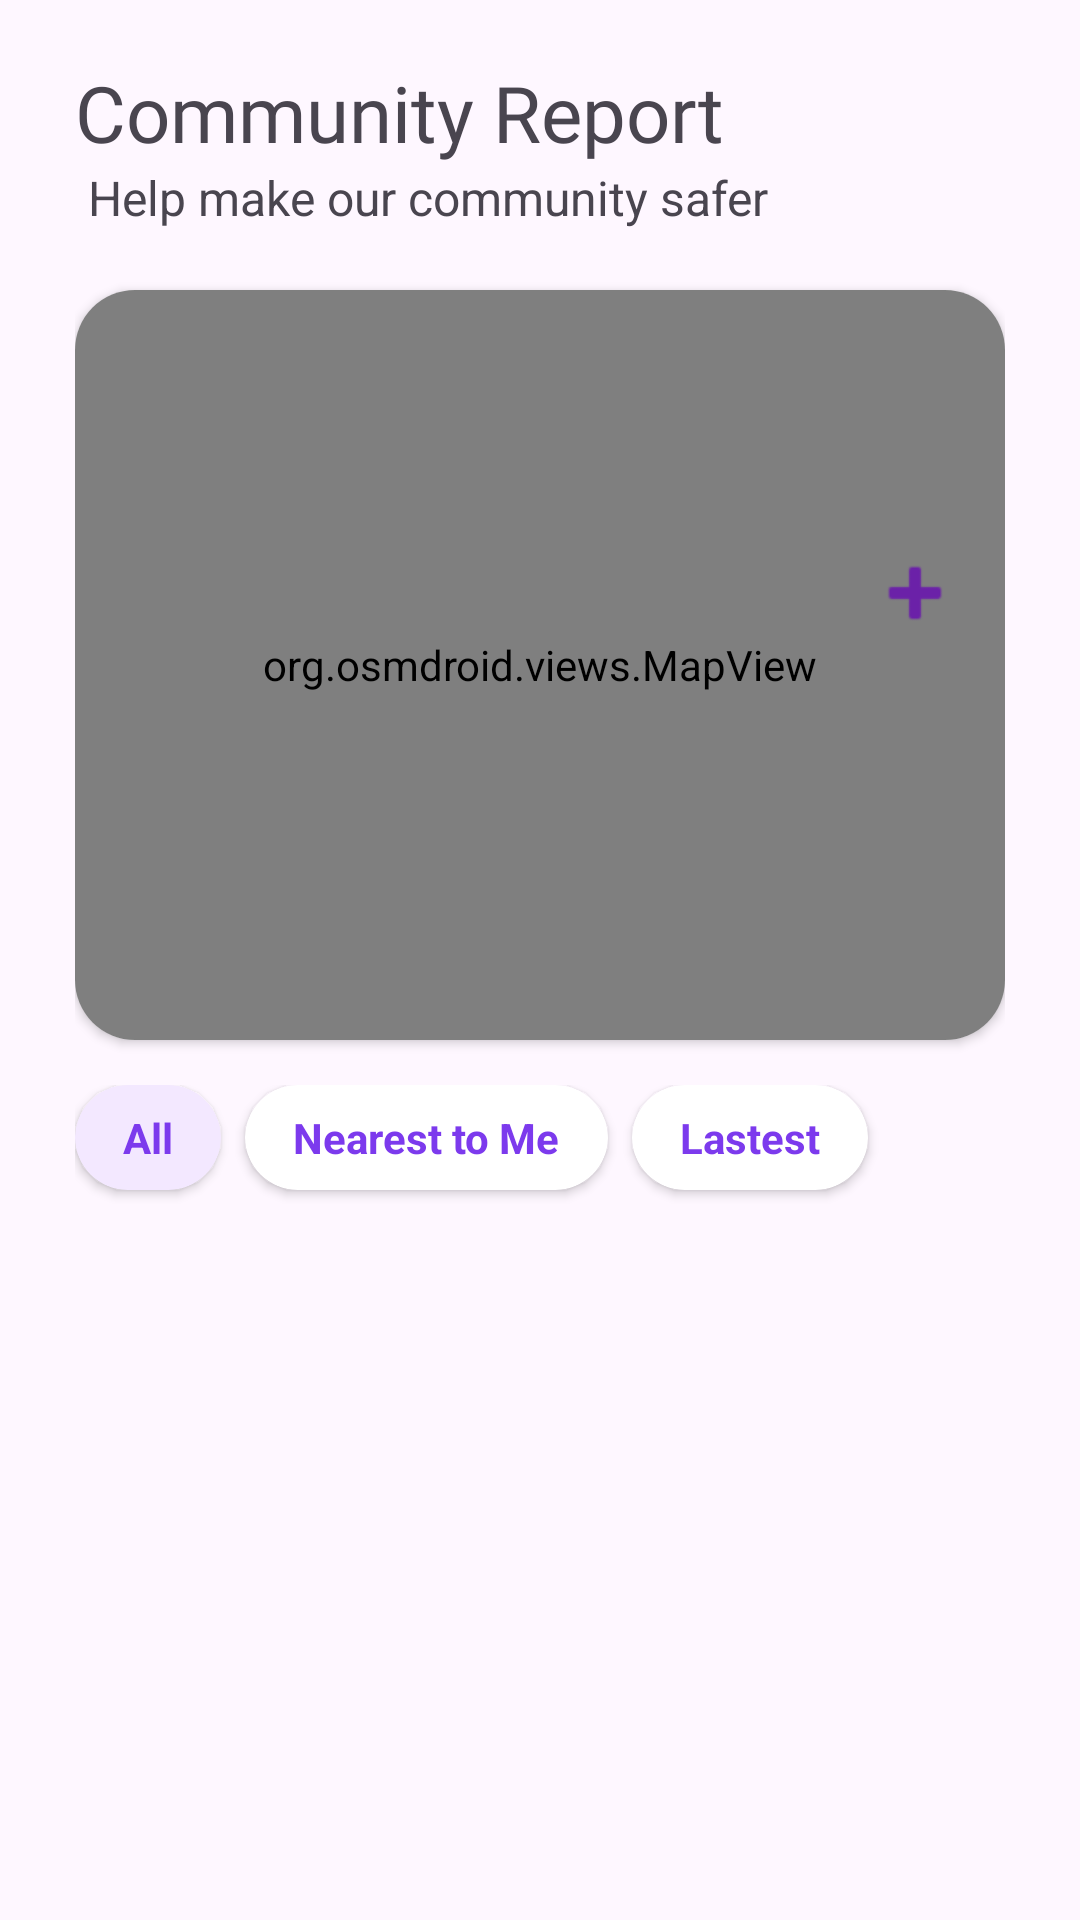

Where icons sit on this 1080w x 1920h app screen, as (x1, y1, x2, y2):
Zoom In: (888, 566, 942, 620)
